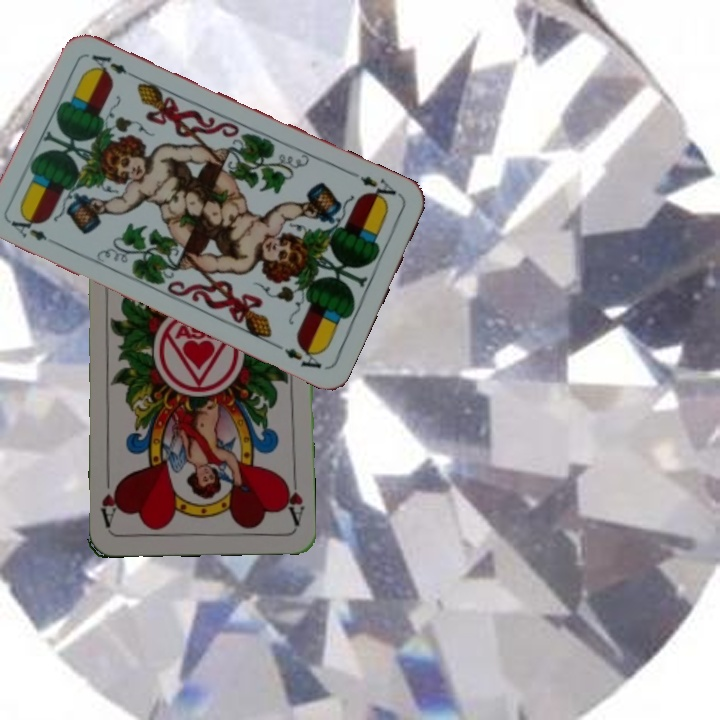EA: (7, 211, 62, 249), (356, 171, 405, 206)
HA: (280, 469, 307, 528)
